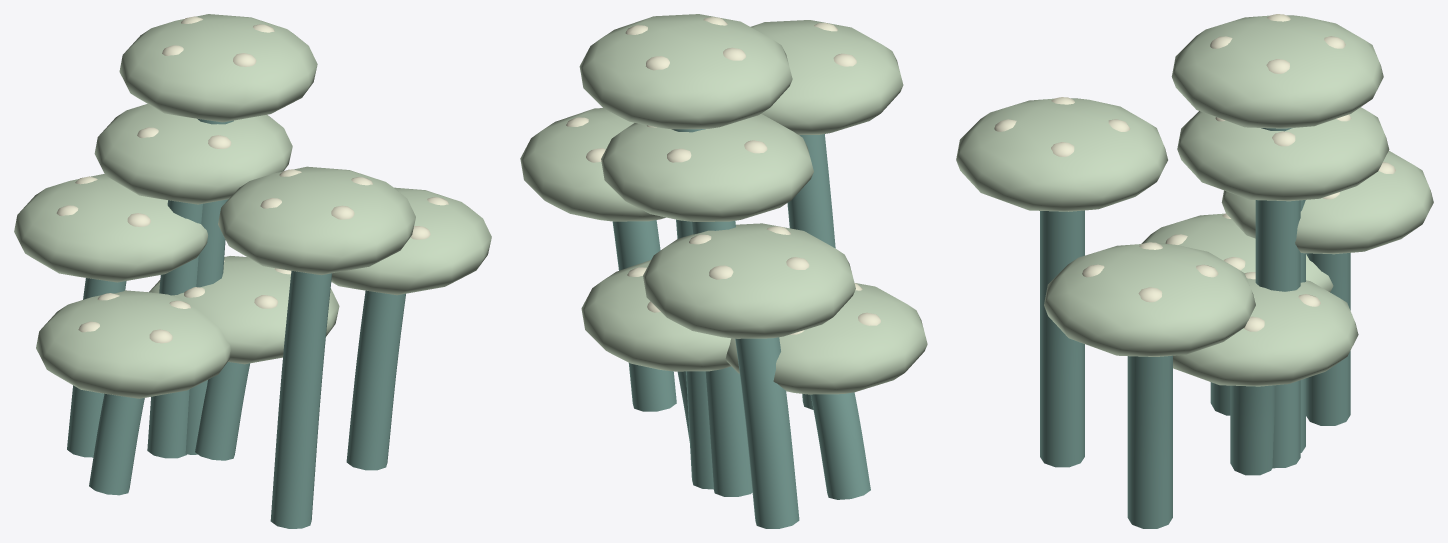
Rendered from bio_spore_fungus_06_far.glb.
3 renders of one model, left to right at view 1: azimuth 30°, elevation 25°; view 2: azimuth 150°, elevation 25°; view 3: azimuth 270°, elevation 25°, orthographic. The views are drawn at different scales.
Visible parts, largest first — view 1: Thick umbrella cap.002, Thick umbrella cap.003, Thick umbrella cap.004, Thick umbrella cap.001, Thick umbrella cap.006, Curved stipe.002, Thick umbrella cap.005, Thick umbrella cap, Curved stipe.005, Curved stipe.004, Curved stipe.006, Curved stipe (+6 smaller); view 2: Thick umbrella cap.003, Thick umbrella cap.001, Thick umbrella cap.006, Thick umbrella cap.002, Thick umbrella cap.004, Thick umbrella cap, Thick umbrella cap.005, Curved stipe.001, Curved stipe.006, Curved stipe.004, Curved stipe.005, Curved stipe.002 (+4 smaller); view 3: Thick umbrella cap.003, Thick umbrella cap.002, Thick umbrella cap.005, Thick umbrella cap.006, Thick umbrella cap, Thick umbrella cap.001, Curved stipe.002, Curved stipe.005, Curved stipe.003, Curved stipe, Curved stipe.001, Thick umbrella cap.004 (+5 smaller).
Boxes of the visible parts, left/top/right/bottom form: Thick umbrella cap.002: left=218, top=166, right=415, bottom=275; Thick umbrella cap.003: left=119, top=14, right=317, bottom=122; Thick umbrella cap.004: left=36, top=290, right=230, bottom=398; Thick umbrella cap.001: left=14, top=174, right=207, bottom=282; Thick umbrella cap.006: left=94, top=104, right=292, bottom=204; Curved stipe.002: left=270, top=271, right=331, bottom=528; Thick umbrella cap.005: left=331, top=187, right=491, bottom=295; Thick umbrella cap: left=149, top=256, right=339, bottom=364; Curved stipe.005: left=346, top=290, right=405, bottom=470; Curved stipe.004: left=89, top=393, right=144, bottom=495; Curved stipe.006: left=147, top=200, right=202, bottom=458; Curved stipe: left=195, top=362, right=249, bottom=460; Thick umbrella cap.003: left=579, top=14, right=792, bottom=129; Thick umbrella cap.001: left=643, top=223, right=855, bottom=338; Thick umbrella cap.006: left=601, top=114, right=813, bottom=221; Thick umbrella cap.002: left=751, top=20, right=903, bottom=135; Thick umbrella cap.004: left=725, top=283, right=927, bottom=394; Thick umbrella cap: left=581, top=260, right=730, bottom=371; Thick umbrella cap.005: left=520, top=108, right=665, bottom=221; Curved stipe.001: left=735, top=337, right=799, bottom=528; Curved stipe.006: left=692, top=221, right=752, bottom=496; Curved stipe.004: left=810, top=392, right=870, bottom=499; Curved stipe.005: left=612, top=220, right=676, bottom=411; Curved stipe.002: left=787, top=134, right=835, bottom=409; Thick umbrella cap.003: left=1171, top=15, right=1383, bottom=128; Thick umbrella cap.002: left=956, top=98, right=1167, bottom=211; Thick umbrella cap.005: left=1044, top=243, right=1255, bottom=356; Thick umbrella cap.006: left=1177, top=107, right=1389, bottom=201; Thick umbrella cap: left=1173, top=278, right=1358, bottom=386; Thick umbrella cap.001: left=1221, top=151, right=1433, bottom=254; Curved stipe.002: left=1040, top=210, right=1084, bottom=467; Curved stipe.005: left=1127, top=355, right=1172, bottom=528; Curved stipe.003: left=1255, top=128, right=1300, bottom=468; Curved stipe: left=1230, top=385, right=1275, bottom=475; Curved stipe.001: left=1306, top=253, right=1350, bottom=425; Thick umbrella cap.004: left=1141, top=213, right=1333, bottom=292.
Size of the model in its own units: 1.82 by 1.82 by 1.8.
